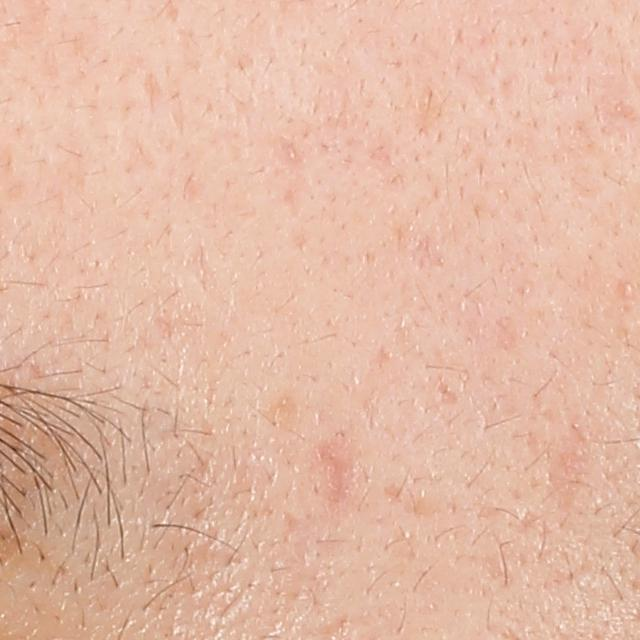atrophic_scar: (316, 438, 353, 510), (141, 66, 169, 111)
